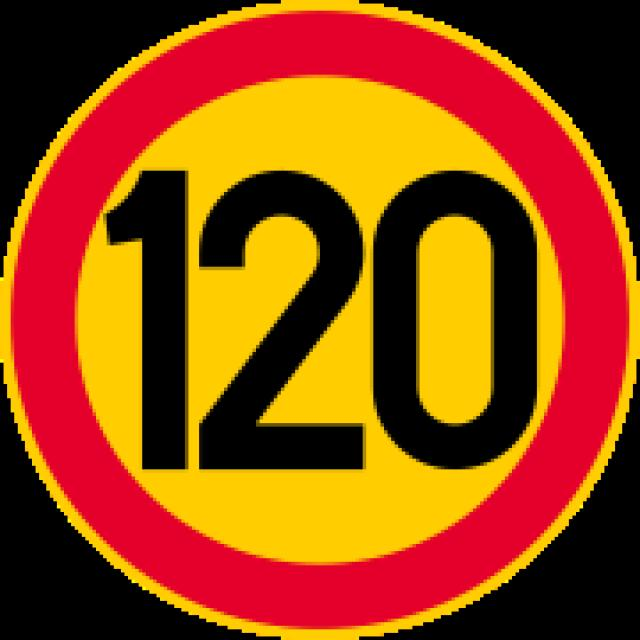Speed Limit -120-: (81, 153, 552, 481)
